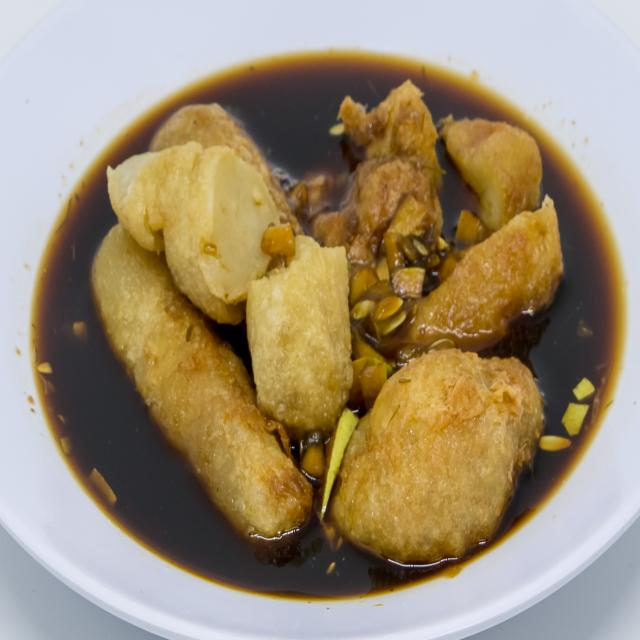Pempek-Palembang: (80, 42, 582, 582)
